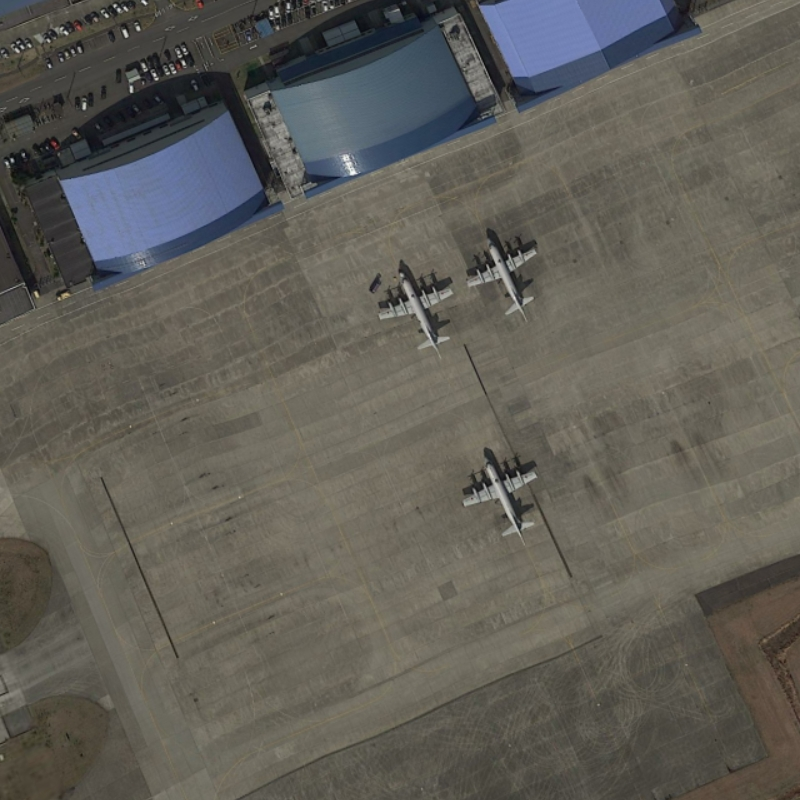A9: (458, 441, 552, 555), (371, 255, 466, 366), (460, 222, 552, 330)
